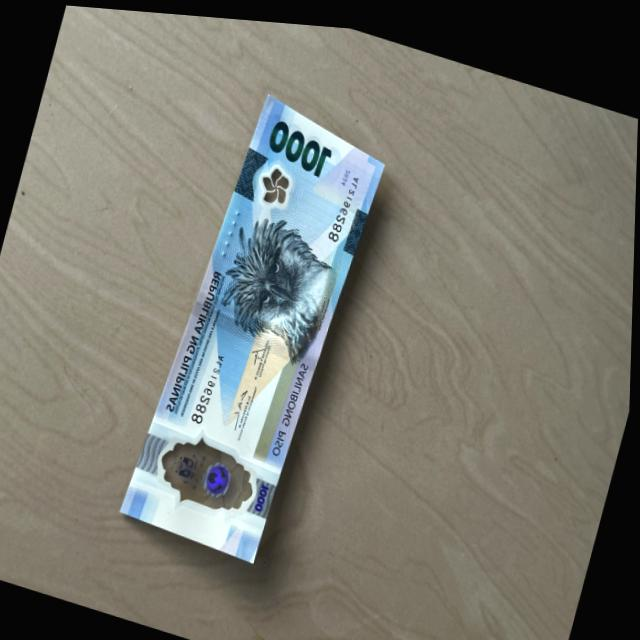clear_window: (153, 422, 270, 522)
eagle: (212, 207, 341, 355)
sampaguita: (257, 157, 298, 204)
